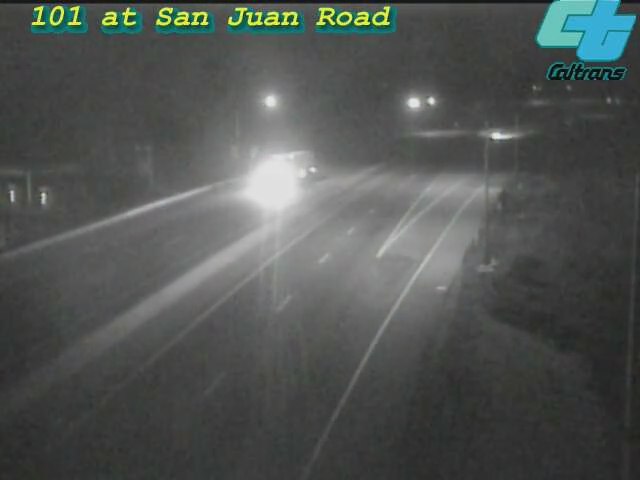vehicle: (243, 134, 323, 214), (475, 109, 525, 159)
